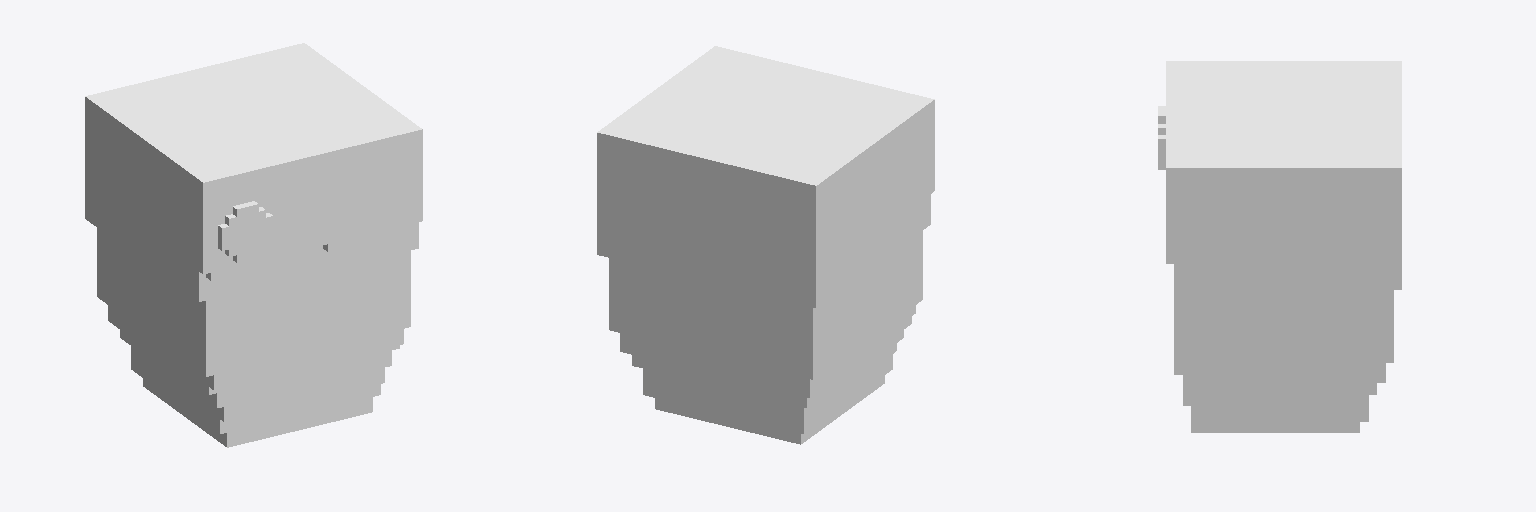
File: SniperGuard_Chest.obj
3 renders of one model, left to right at view 1: azimuth 30°, elevation 25°; view 2: azimuth 150°, elevation 25°; view 3: azimuth 270°, elevation 25°, orthographic.
Size of the model in its own units: 30 by 37 by 29.